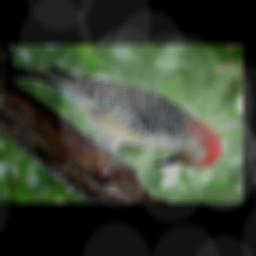Woodpecker: (8, 61, 226, 178)
